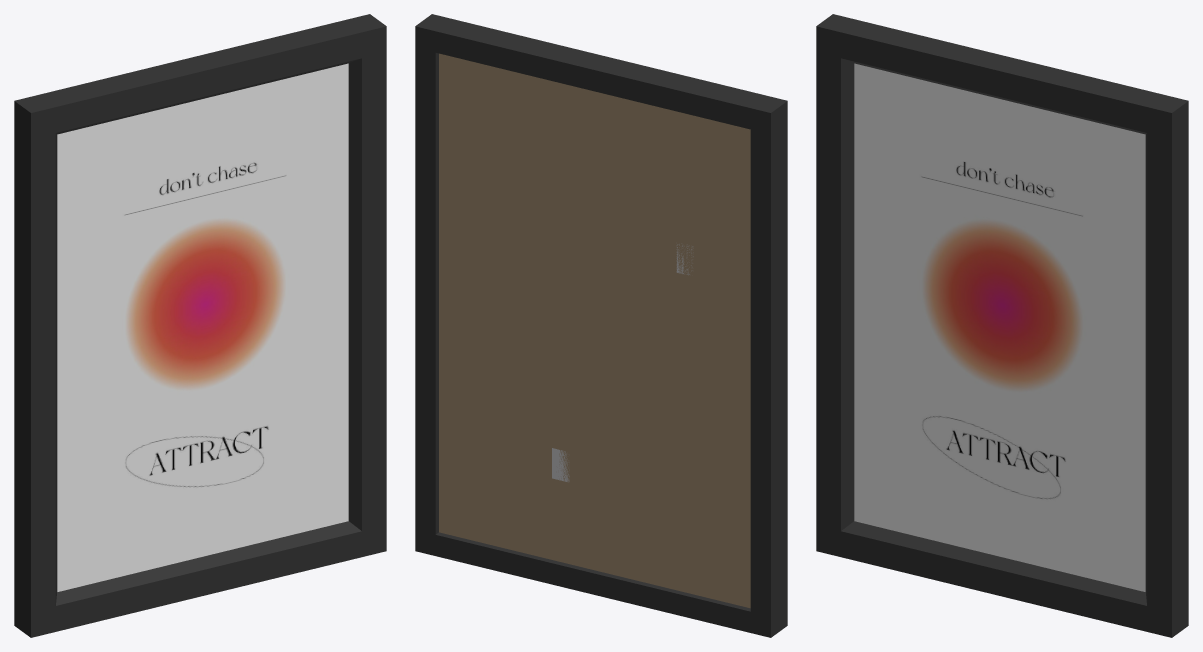
Rendered from dont-chase-20x30.glb.
The picture shows the model from 3 angles, left to right: view 1: azimuth 30°, elevation 25°; view 2: azimuth 150°, elevation 25°; view 3: azimuth 330°, elevation 25°; orthographic projection.
Parts seen in each view (by area): view 1: LAWHA 20x30; view 2: LAWHA 20x30; view 3: LAWHA 20x30.
Boxes of the visible parts, x1,y1,x2,y2 form: LAWHA 20x30: [14, 14, 386, 637]; LAWHA 20x30: [415, 14, 787, 637]; LAWHA 20x30: [816, 14, 1188, 637].
Size of the model in its own units: 0.244 by 0.344 by 0.02.
Materials: 4 (1 with a texture image).
